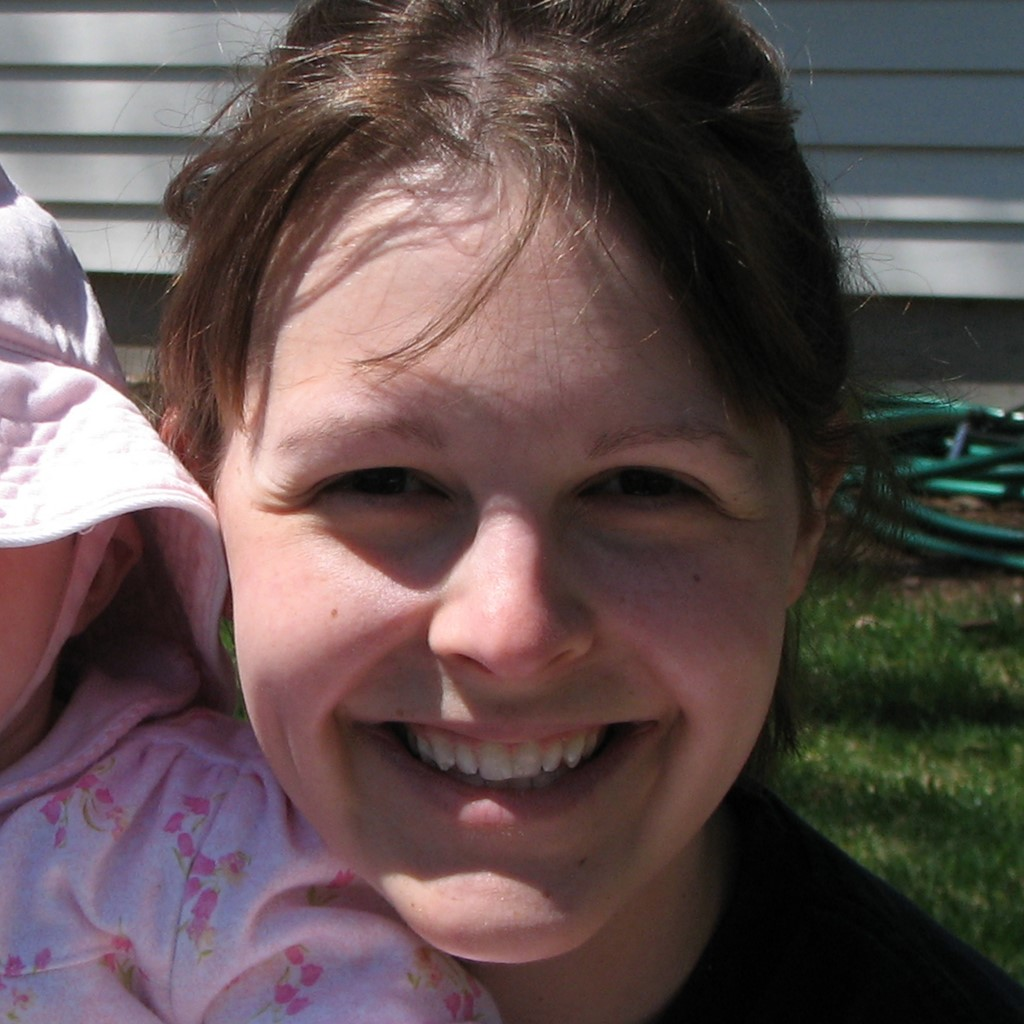sin_mascara: (246, 116, 800, 952)
